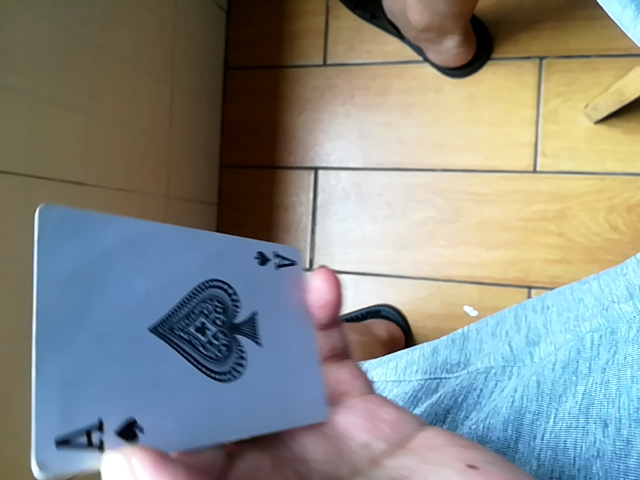ht a: (30, 184, 320, 477)
